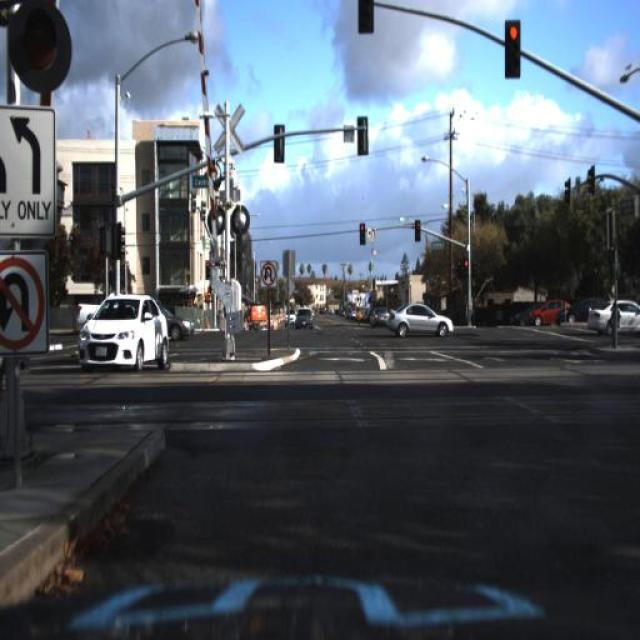car: (76, 294, 170, 374), (384, 304, 457, 341), (556, 293, 622, 329), (529, 296, 575, 330), (161, 296, 193, 344), (67, 295, 101, 327), (290, 300, 316, 332), (363, 304, 395, 328)
trafficLight-Green: (12, 2, 68, 88), (356, 1, 376, 34)
trafficLight-RedLeft: (503, 18, 522, 78), (412, 213, 423, 246), (462, 252, 471, 284), (358, 218, 367, 248)
